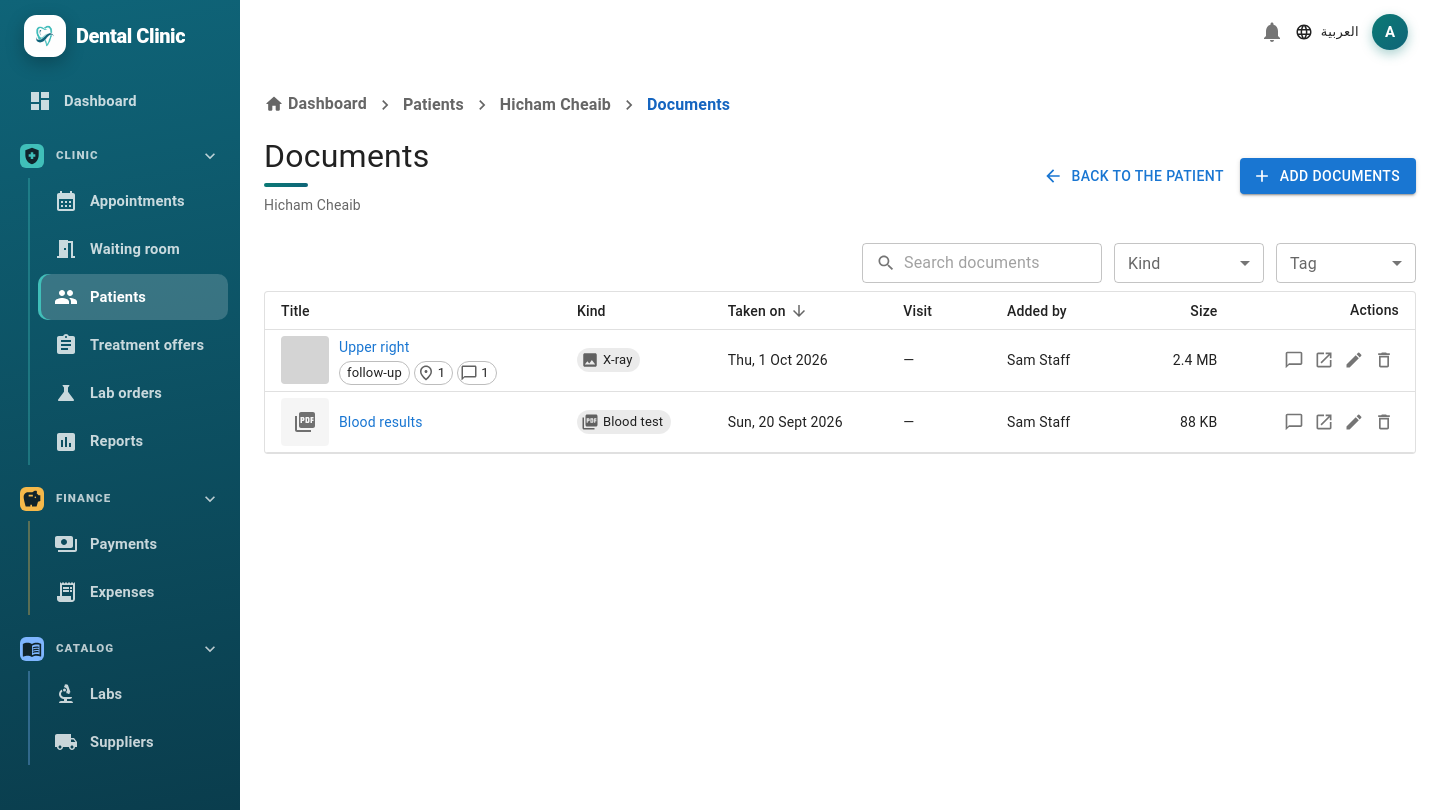
Test case: the viewer › shows the picture with its tags, its marks (numbered) and its comments, and steps through the other documents
Expected: the heading "Documents" is shown, [264,137,430,175]
Click the button named "Comments, tags and marks of Upper right": (1294, 360) [1279,346,1309,376]
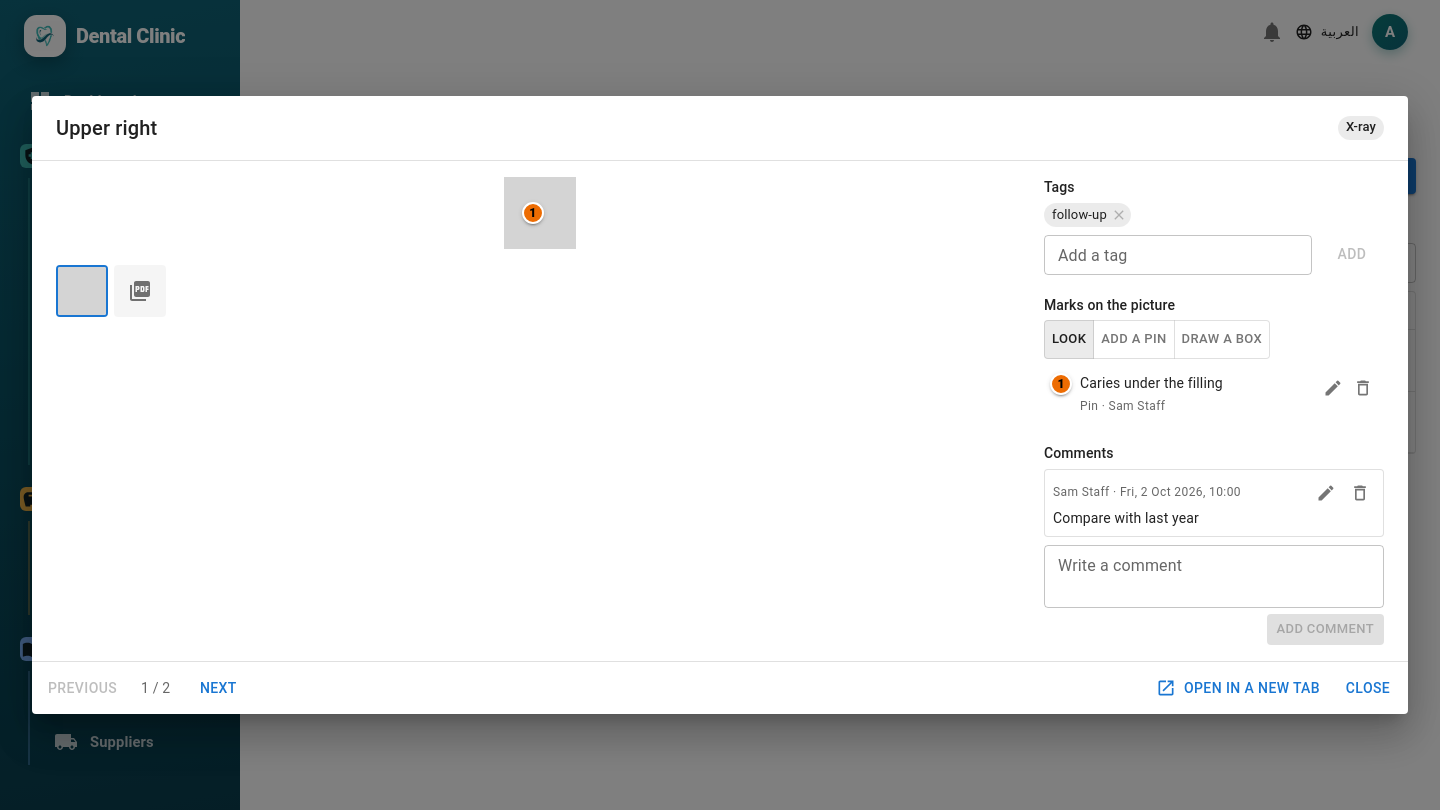
Expected: the text "follow-up" is shown, [1052,207,1107,222]
Expected: the text "Caries under the filling" is shown, [1080,375,1223,391]
Expected: the button named "Mark 1: Caries under the filling" is shown, [519,198,547,226]
Click the button named "Show Blood results": (140, 290) [114,264,166,316]
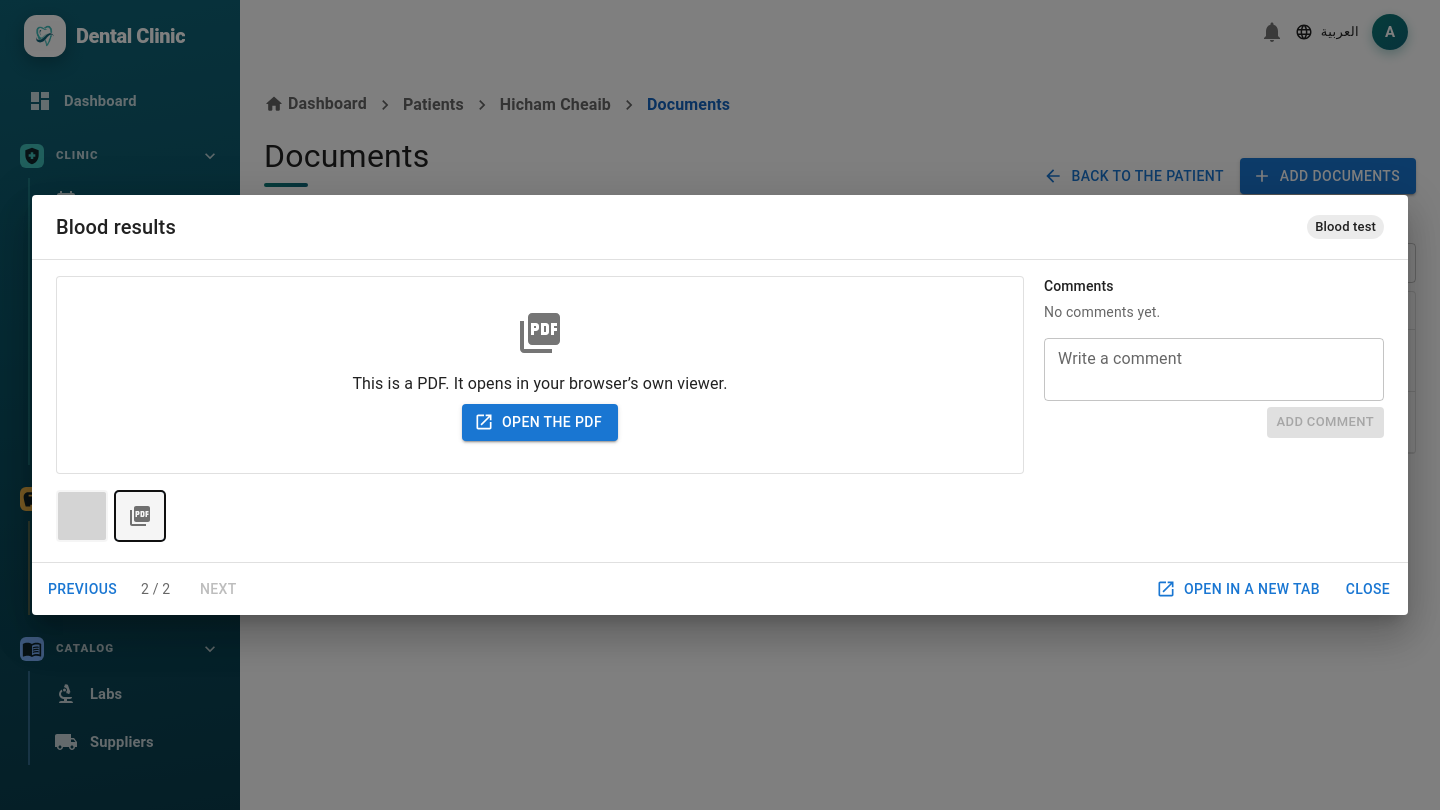
Expected: the link "Open the PDF" is shown, [462,404,618,440]
Expected: the heading "Tags" is gone
Expected: the heading "Marks on the picture" is gone
